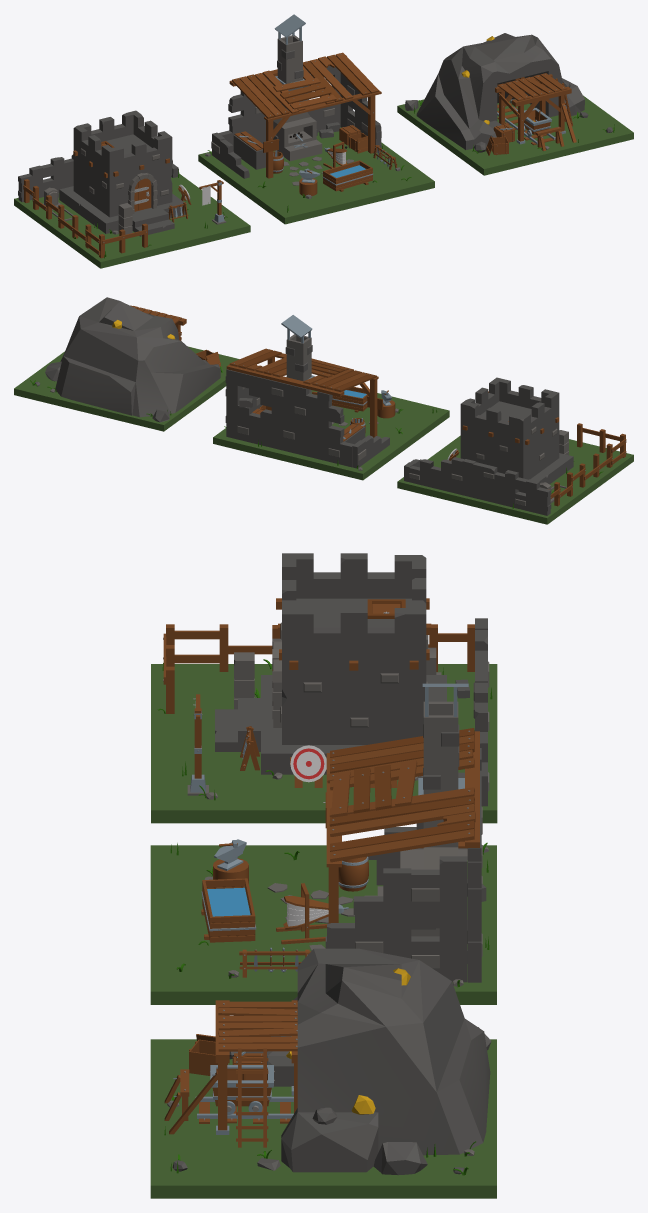
3 views of the same model, one above another, from view 1: azimuth 30°, elevation 25°; view 2: azimuth 150°, elevation 25°; view 3: azimuth 270°, elevation 25° (orthographic). The views are drawn at different scales.
Visible parts, largest first — view 1: Box001, Box050, Box003, Box002, Box004, Box021, Box017, Box014, Box020, Box039, Box037, Box018 (+15 smaller); view 2: Box050, Box001, Box017, Box003, Box014, Box002, Box004, Box021, Box037, Box040, Box039, Box019 (+1 smaller); view 3: Box050, Box001, Box003, Box004, Box002, Box020, Box021, Box039, Box017, Box014, Box106, Box103 (+12 smaller).
Boxes of the visible parts, x1=… form: Box001: x1=59, y1=110, x2=185, y2=236; Box050: x1=416, y1=33, x2=584, y2=149; Box003: x1=198, y1=127, x2=434, y2=224; Box002: x1=14, y1=174, x2=250, y2=268; Box004: x1=397, y1=95, x2=633, y2=175; Box021: x1=273, y1=35, x2=322, y2=161; Box017: x1=218, y1=66, x2=340, y2=151; Box014: x1=18, y1=154, x2=73, y2=202; Box020: x1=340, y1=72, x2=381, y2=152; Box039: x1=322, y1=160, x2=373, y2=191; Box037: x1=211, y1=132, x2=249, y2=178; Box018: x1=233, y1=134, x2=265, y2=169; Box050: x1=55, y1=297, x2=220, y2=417; Box001: x1=460, y1=377, x2=573, y2=493; Box017: x1=225, y1=369, x2=353, y2=467; Box003: x1=213, y1=390, x2=449, y2=480; Box014: x1=409, y1=457, x2=551, y2=515; Box002: x1=397, y1=435, x2=633, y2=524; Box004: x1=14, y1=346, x2=239, y2=431; Box021: x1=285, y1=334, x2=312, y2=393; Box037: x1=352, y1=435, x2=389, y2=468; Box040: x1=226, y1=364, x2=344, y2=396; Box039: x1=332, y1=387, x2=367, y2=412; Box019: x1=370, y1=380, x2=377, y2=437; Box050: x1=246, y1=948, x2=490, y2=1172; Box001: x1=215, y1=553, x2=446, y2=774; Box003: x1=150, y1=845, x2=496, y2=1004; Box004: x1=150, y1=1039, x2=496, y2=1198; Box002: x1=151, y1=664, x2=497, y2=823; Box020: x1=325, y1=856, x2=467, y2=982; Box021: x1=377, y1=701, x2=467, y2=936; Box039: x1=201, y1=878, x2=256, y2=942; Box017: x1=467, y1=748, x2=482, y2=982; Box014: x1=473, y1=618, x2=489, y2=791; Box106: x1=330, y1=829, x2=474, y2=862; Box103: x1=330, y1=804, x2=474, y2=836.
Size of the model in its own units: 427 by 99.87 by 120.
